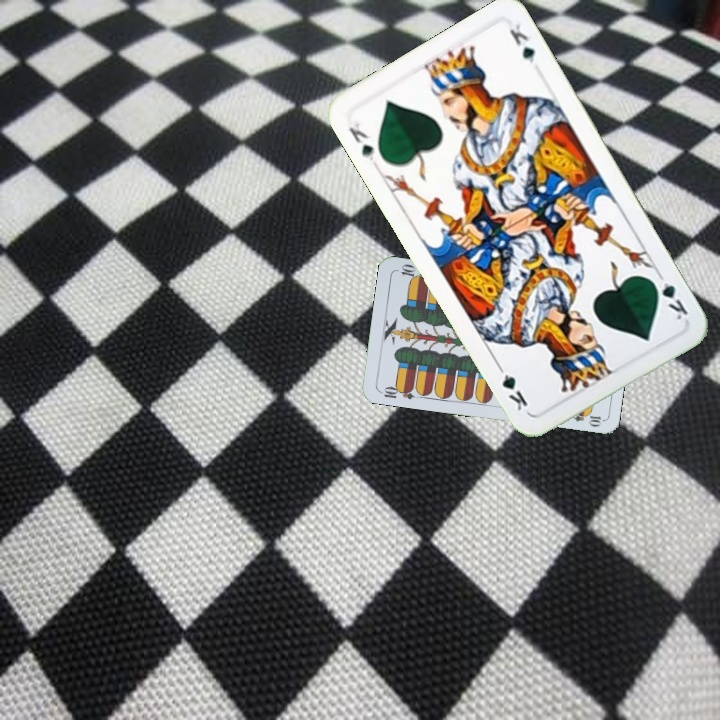E10: (376, 382, 416, 402)
GK: (647, 274, 691, 323), (344, 117, 377, 164)
